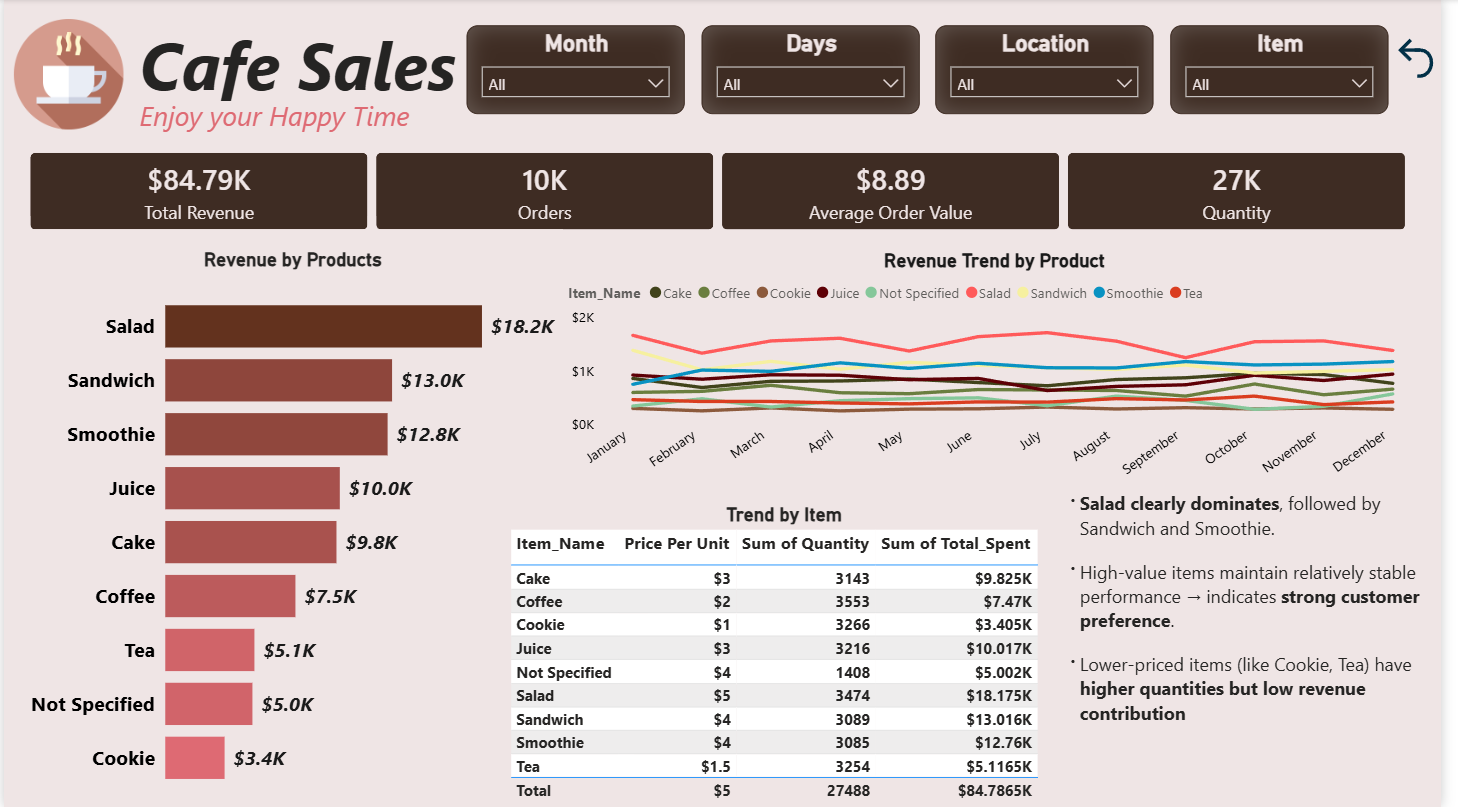

The dashboard page shown, as its layout file describes it:
{"tool":"powerbi","page":{"name":"DEEP DIVE (ANALYST PAGE)","canvas":[1280,720],"ordinal":2},"visuals":[{"type":"image","box":[0.6,17.3,115.4,98.1],"z":0},{"type":"textbox","box":[116,13,321.7,102.4],"z":1000},{"type":"textbox","box":[116,82.2,341.9,66.4],"z":2000},{"type":"cardVisual","fields":{"Data":["Measures Table.Total Revenue","Measures Table.Total Orders","Measures Table.AOV","Measures Table.Total Quantity"]},"box":[7.2,119.7,1259.5,102.4],"z":3000},{"type":"slicer","title":"Month","fields":{"Values":["cafe dim_date_view.Month Name"]},"box":[412.2,23.1,194.8,79.4],"z":4000},{"type":"slicer","title":"Days","fields":{"Values":["cafe dim_date_view.Day Name"]},"box":[620.9,23.1,194.8,79.4],"z":5000},{"type":"slicer","title":"Location","fields":{"Values":["cafe dim_location_view.Location_Name"]},"box":[829.6,23.1,194.8,79.4],"z":6000},{"type":"slicer","title":"Item","fields":{"Values":["cafe dim_item_view.Item_Name"]},"box":[1038.3,23.1,194.8,79.4],"z":7000},{"type":"barChart","title":"Revenue by Products","fields":{"Category":["cafe dim_item_view.Item_Name"],"Y":["Measures Table.Total Revenue"]},"box":[18.1,222,479,498.3],"z":8000},{"type":"lineChart","title":"Revenue Trend by Product","fields":{"Y":["Measures Table.Total Revenue"],"Category":["cafe dim_date_view.Month Name"],"Series":["cafe dim_item_view.Item_Name"]},"box":[497.8,222.2,769,215],"z":9000},{"type":"tableEx","title":"Trend by Item","fields":{"Values":["cafe dim_item_view.Item_Name","Measures Table.Price Per Unit","Sum(cafe fact_sales_view.Quantity)","Sum(cafe fact_sales_view.Total_Spent)"]},"box":[445.8,448.7,499.2,271.2],"z":10000},{"type":"group","id":"g1","title":"Group 2","box":[935,433,336.2,287.1],"z":11000},{"type":"actionButton","box":[1234.2,22.9,45.8,59.1],"z":12000},{"type":"textbox","box":[935,433,336.2,287.1],"z":12000,"group":"g1"}]}

Visuals, with their boxes in screenshot pixels (x1, y1, x2, y2), scaled from the page's 1280x720 canvas onto the 1458x807 screenshot:
image: 1:19:132:129
textbox: 132:15:499:129
textbox: 132:92:522:167
cardVisual - Measures Table.Total Revenue x Measures Table.Total Orders: 8:134:1443:249
"Month" slicer: 470:26:691:115
"Days" slicer: 707:26:929:115
"Location" slicer: 945:26:1167:115
"Item" slicer: 1183:26:1405:115
"Revenue by Products" barChart: 21:249:566:806
"Revenue Trend by Product" lineChart: 567:249:1443:490
"Trend by Item" tableEx: 508:503:1076:806
"Group 2" group: 1065:485:1448:806
actionButton: 1406:26:1457:92
textbox: 1065:485:1448:806
